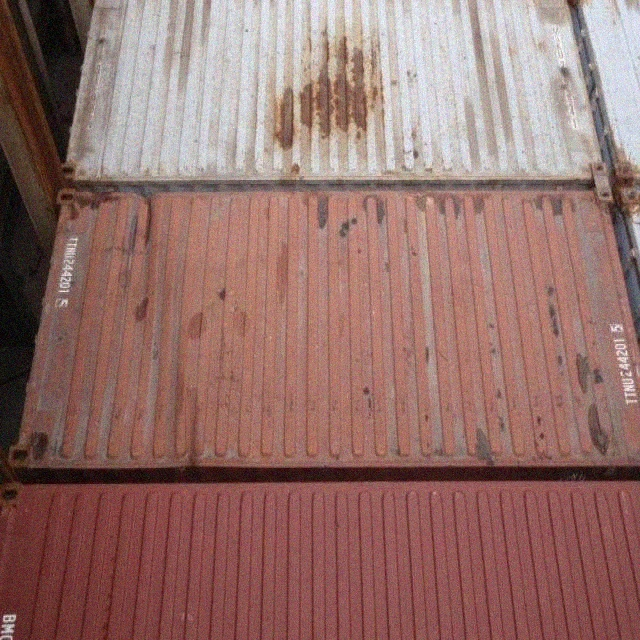Dent: (133, 348, 208, 452), (128, 191, 167, 203)
Hole: (140, 197, 154, 248)
Rusty: (276, 33, 386, 152)
